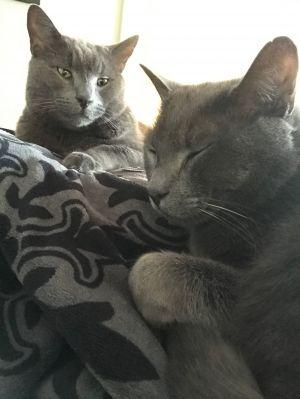rblue: (20, 1, 142, 143)
